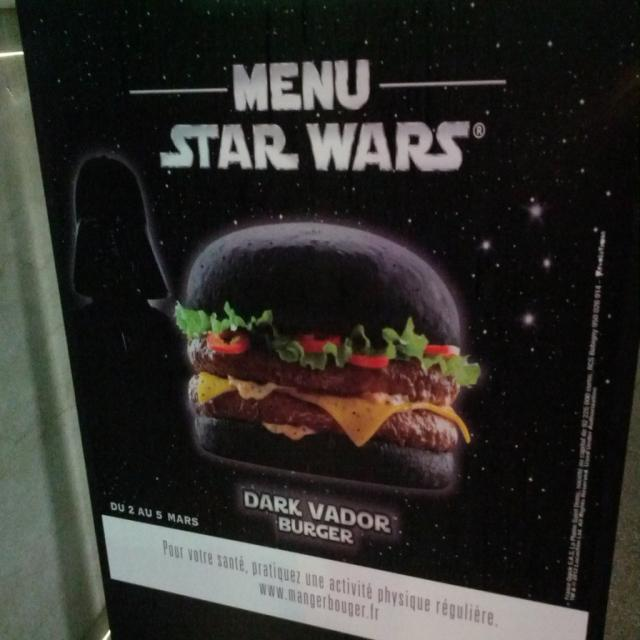Hamburger: (173, 223, 481, 492)
